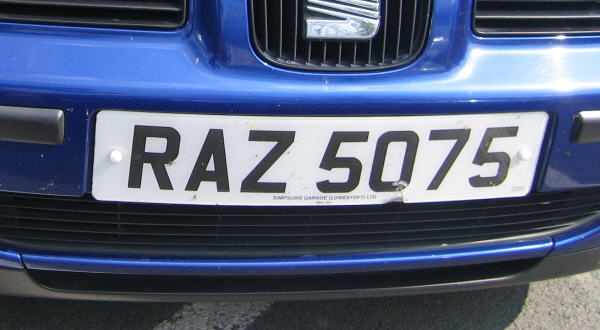license_plate: (90, 110, 548, 209)
